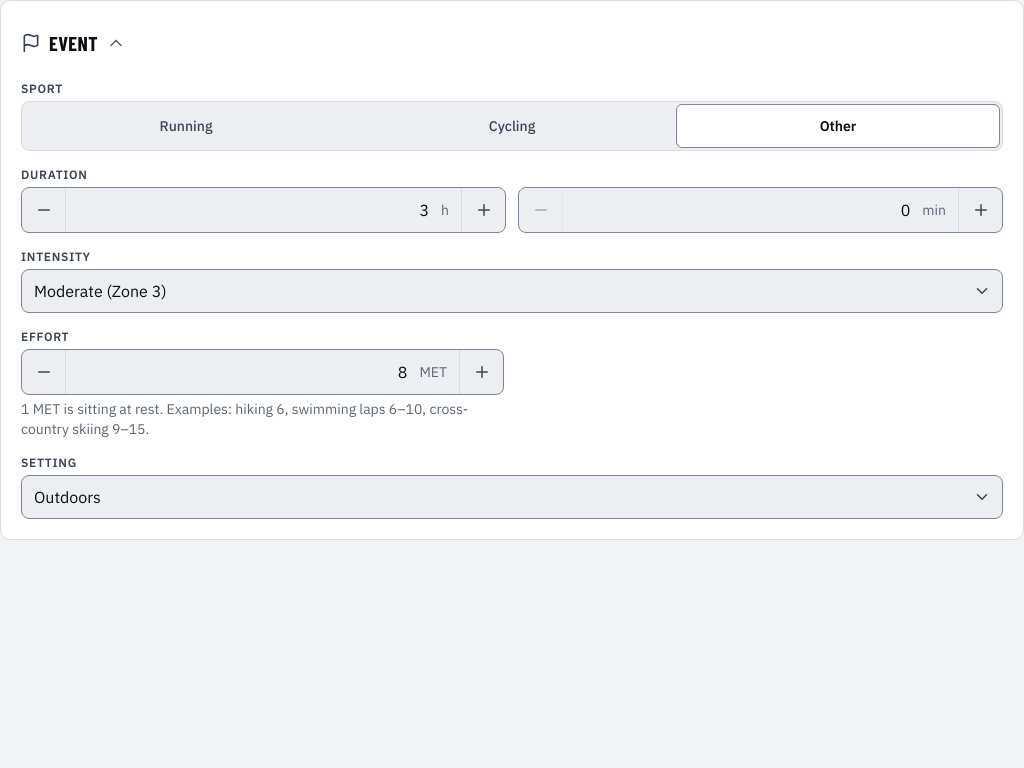
Test: EventSection: layout › names the sport in full in the collapsed summary ("Other sport", not the short option text)
Click the button "Event" at (73,43), box [17,21,130,65]
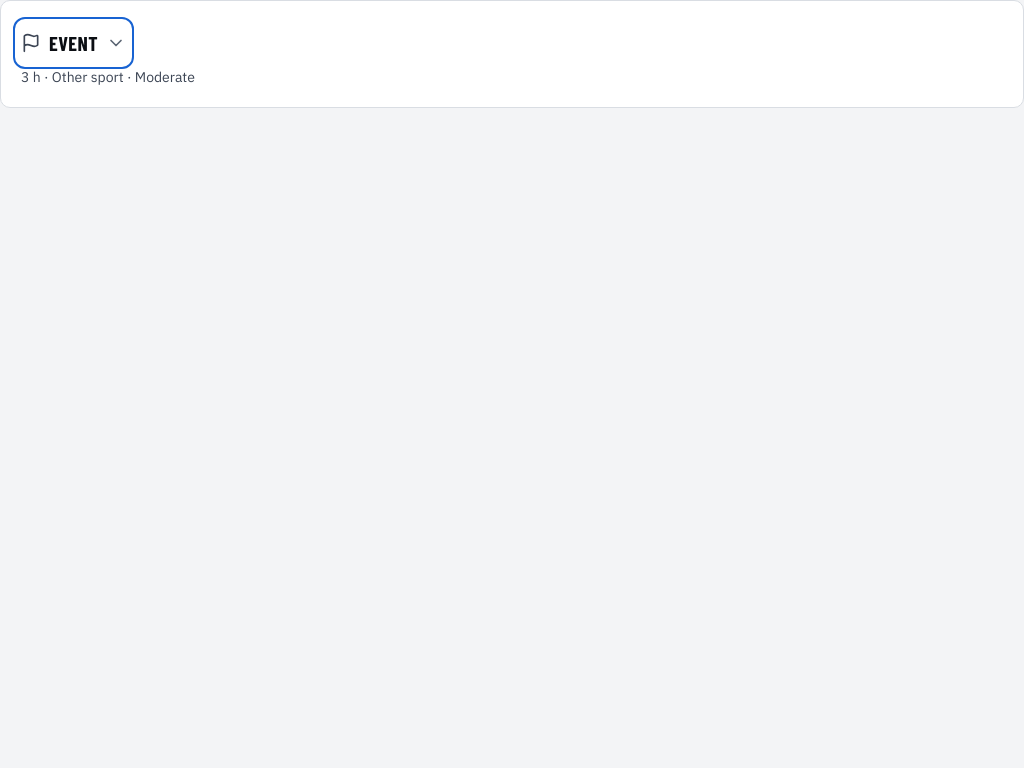
Now the text "3 h · Other sport · Moderate" is shown, box [21,68,195,86]
